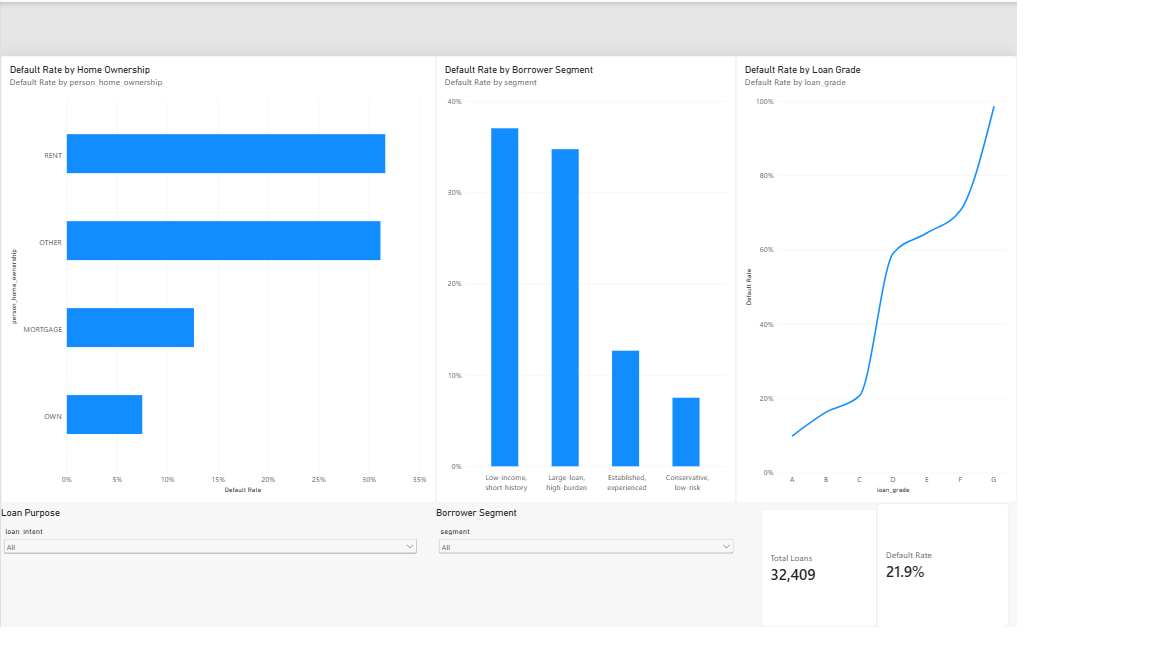

The dashboard page shown, as its layout file describes it:
{"tool":"powerbi","page":{"name":"Page 1","canvas":[1920,1080],"ordinal":0},"visuals":[{"type":"cardVisual","fields":{"Data":["cred_risk_clustered.Total Loans"]},"box":[1437.2,856.1,218.3,223.9],"z":0},{"type":"cardVisual","fields":{"Data":["cred_risk_clustered.Default Rate"]},"box":[1655.4,844.7,249.5,235.3],"z":1000},{"type":"clusteredColumnChart","title":"Default Rate by Borrower Segment","fields":{"Category":["cred_risk_clustered.segment"],"Y":["cred_risk_clustered.Default Rate"]},"box":[822.1,0,566.9,844.7],"z":2000},{"type":"lineChart","title":"Default Rate by Loan Grade","fields":{"Category":["cred_risk_clustered.loan_grade"],"Y":["cred_risk_clustered.Default Rate"]},"box":[1389,0,530.1,844.7],"z":3000},{"type":"clusteredBarChart","title":"Default Rate by Home Ownership","fields":{"Category":["cred_risk_clustered.person_home_ownership"],"Y":["cred_risk_clustered.Default Rate"]},"box":[0,0,822.1,844.7],"z":4000},{"type":"slicer","title":"Loan Purpose","fields":{"Values":["cred_risk_clustered.loan_intent"]},"box":[0,853.2,790.9,223.9],"z":4001},{"type":"slicer","title":"Borrower Segment","fields":{"Values":["cred_risk_clustered.segment"]},"box":[822.1,853.2,566.9,223.9],"z":4002}]}

Visuals, with their boxes on the page's 1920x1080 design canvas (x1, y1, x2, y2). These are canvas units, not pixel positions in the 1152x648 screenshot, which may show the page scaled, cropped or inside an application window:
cardVisual - cred_risk_clustered.Total Loans: crop(1437, 856, 1656, 1080)
cardVisual - cred_risk_clustered.Default Rate: crop(1655, 845, 1905, 1080)
"Default Rate by Borrower Segment" clusteredColumnChart: crop(822, 0, 1389, 845)
"Default Rate by Loan Grade" lineChart: crop(1389, 0, 1919, 845)
"Default Rate by Home Ownership" clusteredBarChart: crop(0, 0, 822, 845)
"Loan Purpose" slicer: crop(0, 853, 791, 1077)
"Borrower Segment" slicer: crop(822, 853, 1389, 1077)
